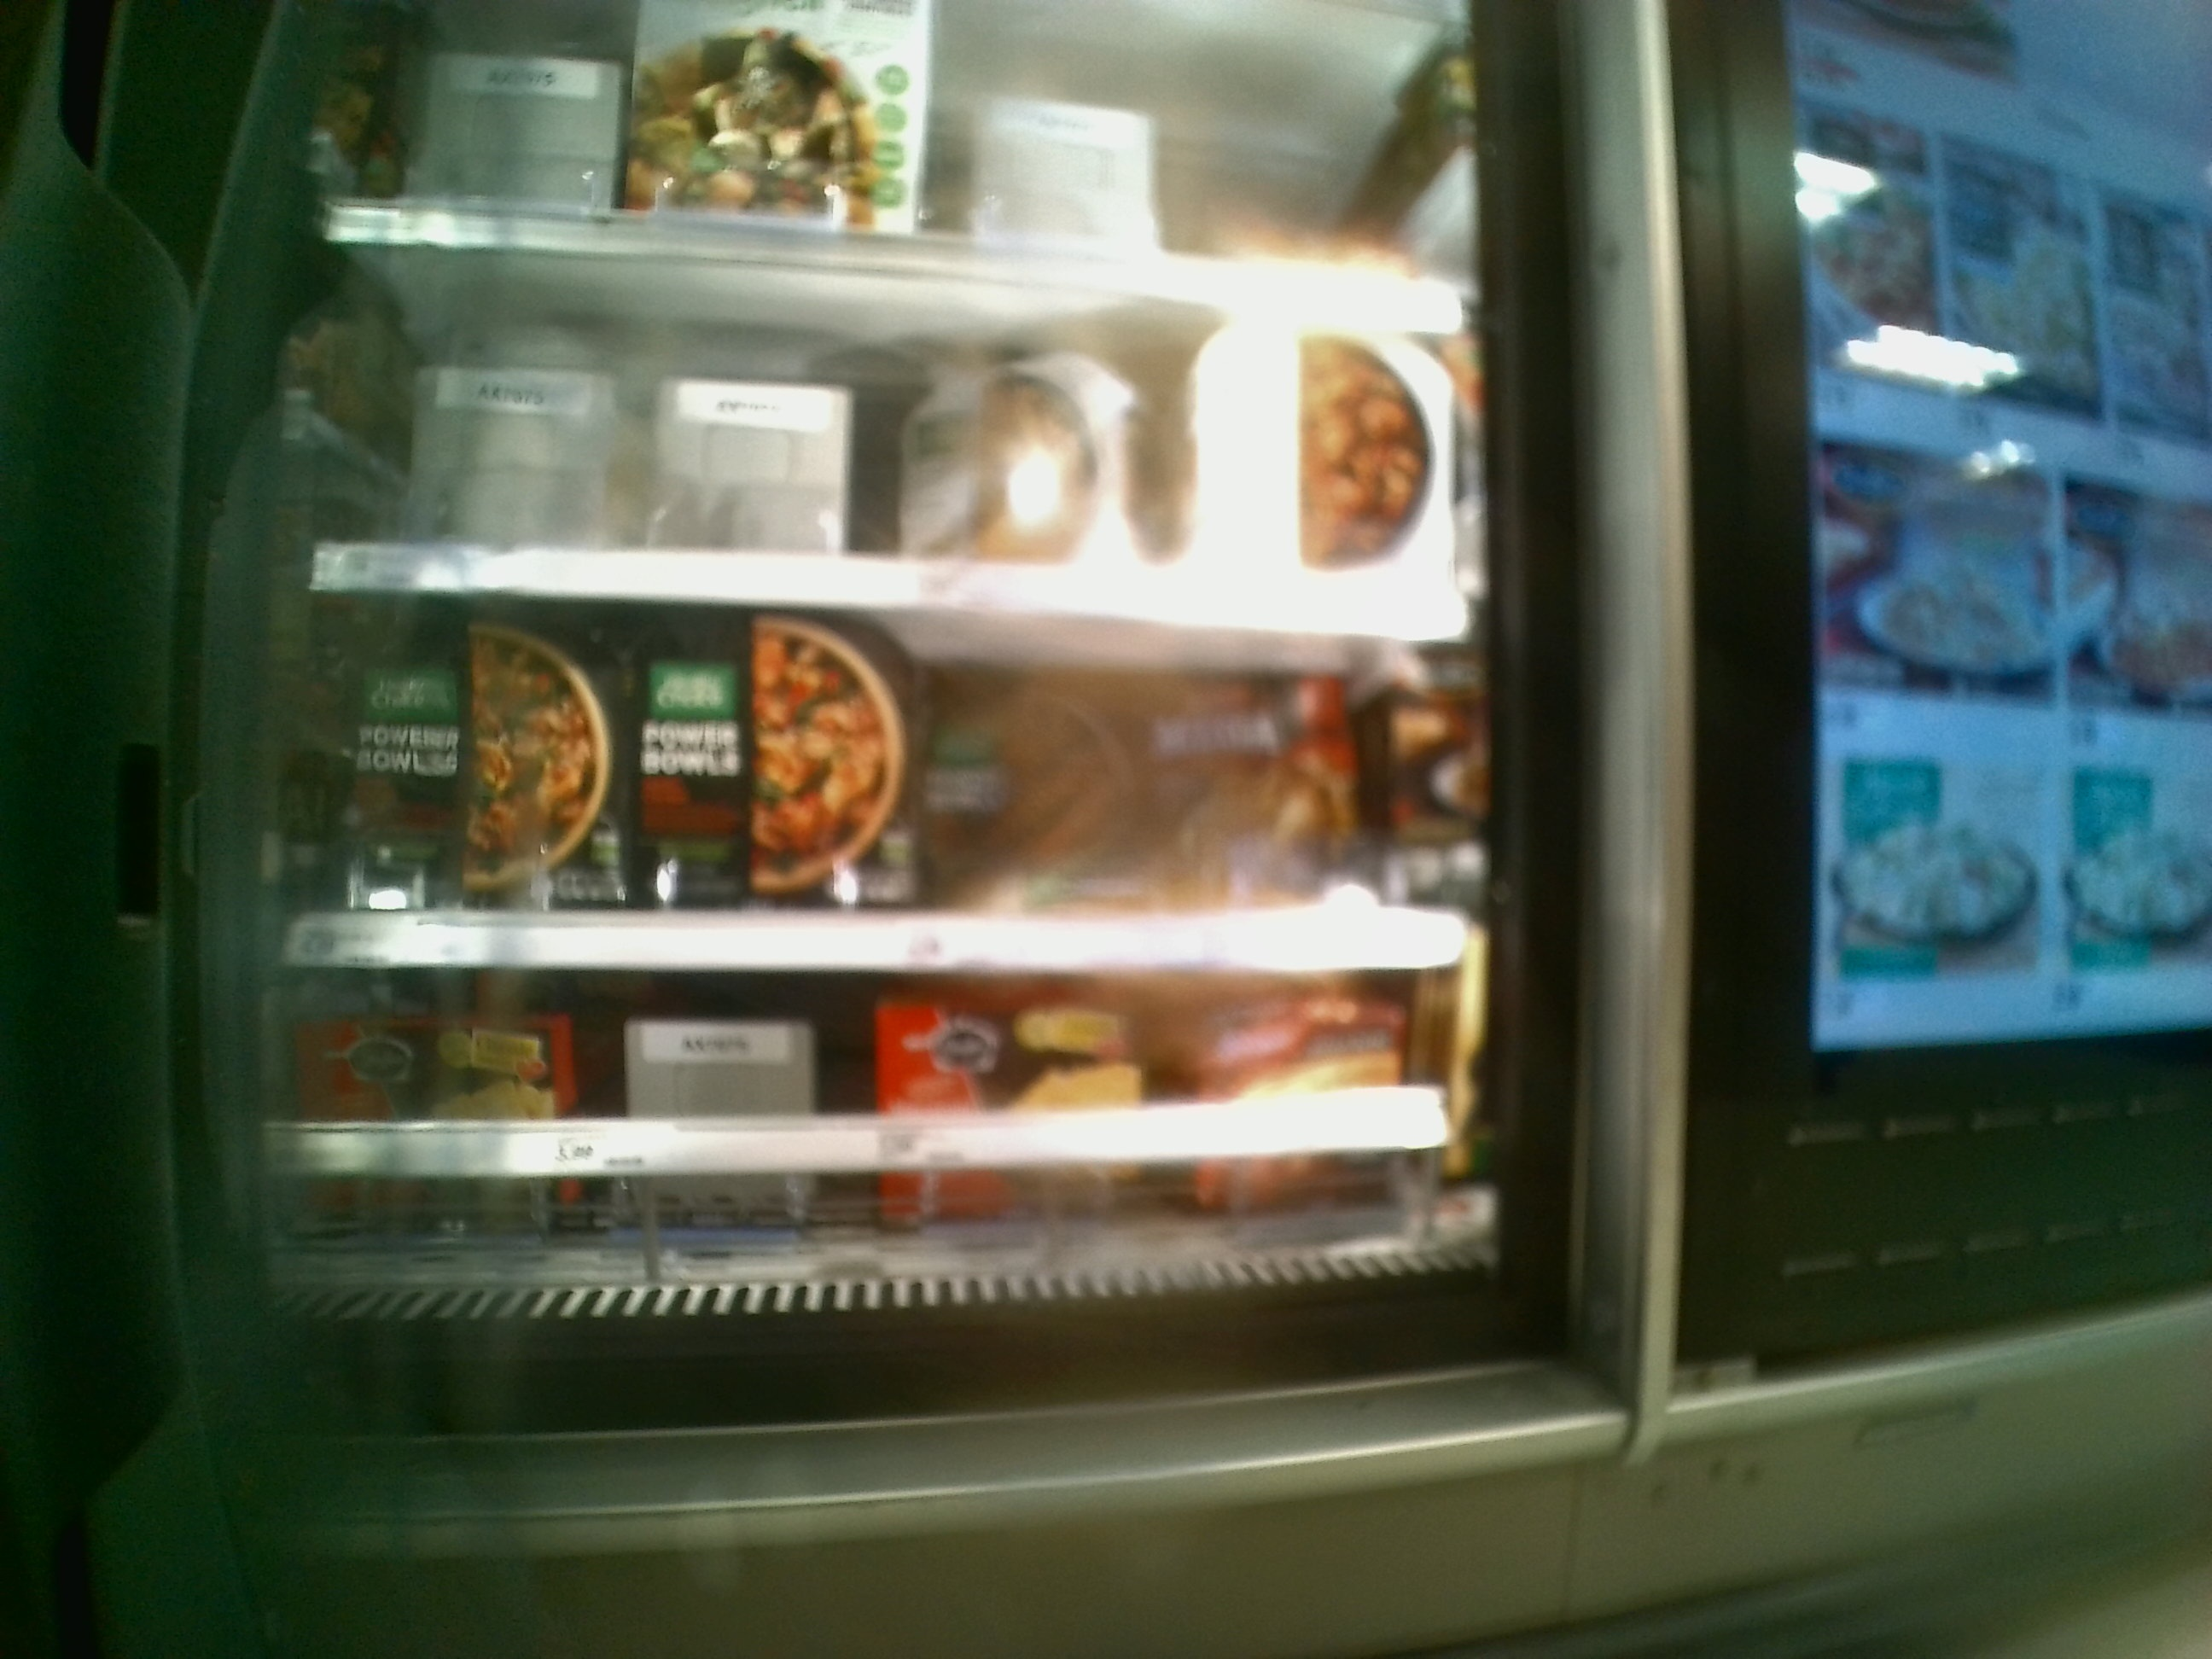shelf: (273, 573, 1479, 964), (270, 962, 1493, 1338)
